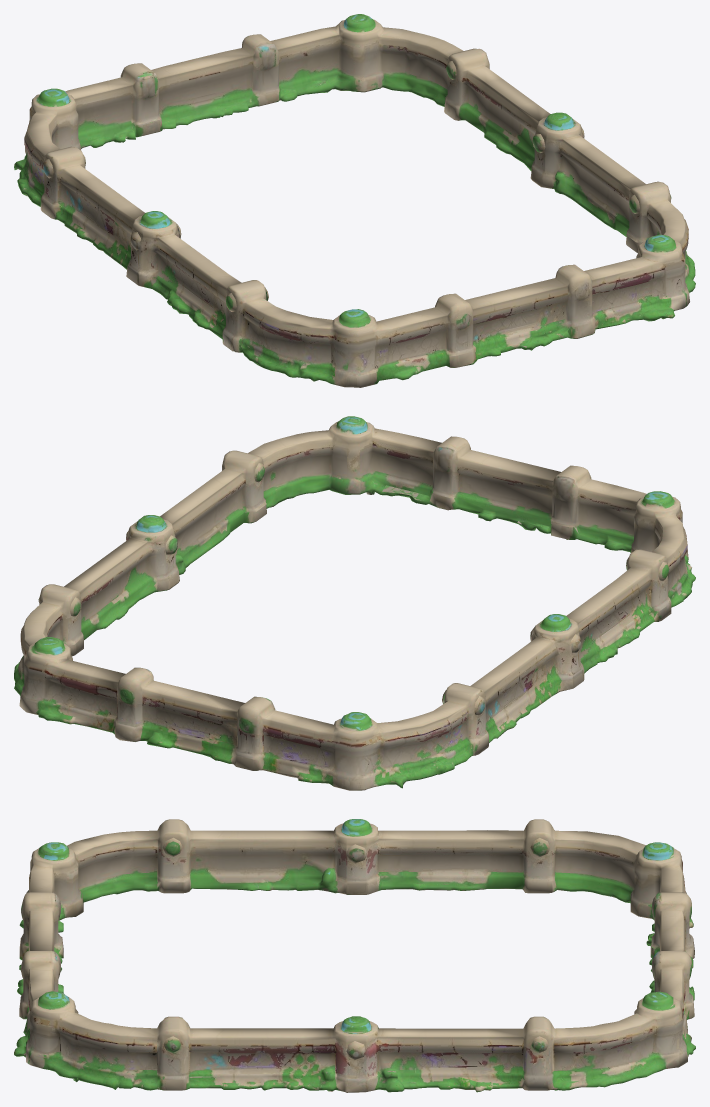
The model's file is 17-garden-perimeter-frame.glb.
The picture shows the model from 3 angles, top to bottom: view 1: azimuth 30°, elevation 25°; view 2: azimuth 150°, elevation 25°; view 3: azimuth 270°, elevation 25°; orthographic projection.
Visible parts, largest first — view 1: tripo_node_cfc92872-d33f-4b27-b2b0-6145a499e27d; view 2: tripo_node_cfc92872-d33f-4b27-b2b0-6145a499e27d; view 3: tripo_node_cfc92872-d33f-4b27-b2b0-6145a499e27d.
Boxes of the visible parts, x1,y1,x2,y2 form: tripo_node_cfc92872-d33f-4b27-b2b0-6145a499e27d: [14, 14, 695, 387]; tripo_node_cfc92872-d33f-4b27-b2b0-6145a499e27d: [14, 416, 695, 790]; tripo_node_cfc92872-d33f-4b27-b2b0-6145a499e27d: [14, 819, 695, 1092].
Bounding box in the file's own units: 3.55 × 0.5 × 4.64.
1 material, 1 textured.
